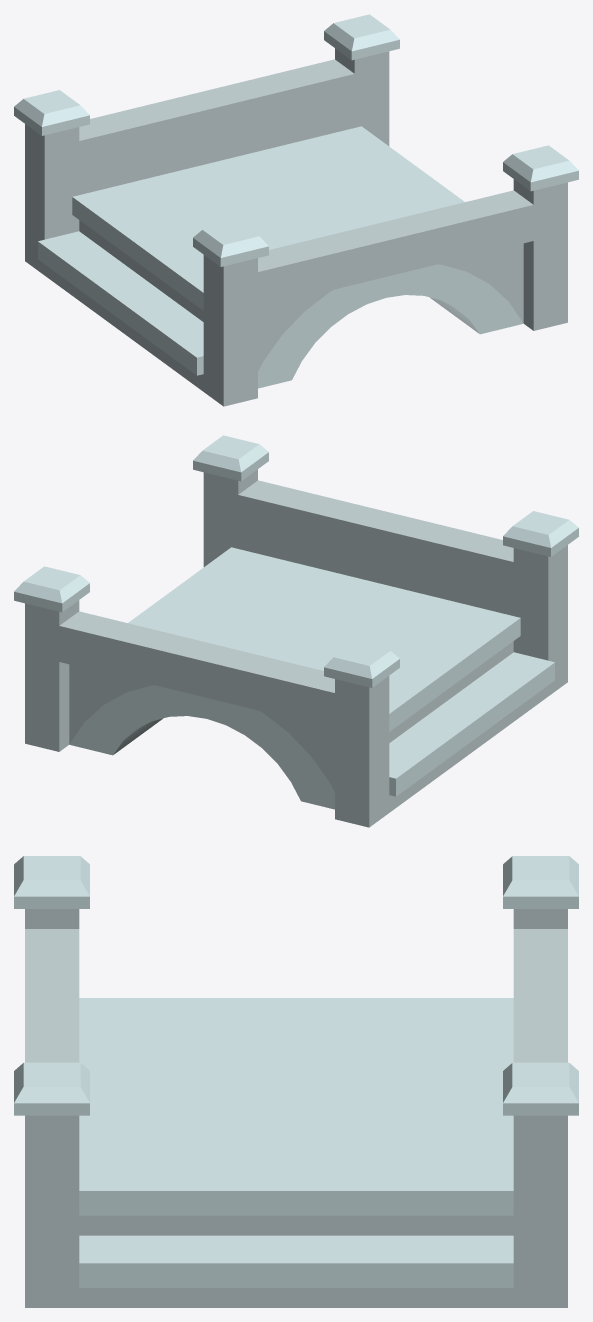
3 views of the same model, one above another, from view 1: azimuth 30°, elevation 25°; view 2: azimuth 150°, elevation 25°; view 3: azimuth 270°, elevation 25° (orthographic). The views are drawn at different scales.
Visible parts, largest first — view 1: bridge_stoneRound; view 2: bridge_stoneRound; view 3: bridge_stoneRound.
Part boxes in pixels (x1=…): bridge_stoneRound: x1=14, y1=14, x2=578, y2=406; bridge_stoneRound: x1=14, y1=435, x2=578, y2=827; bridge_stoneRound: x1=14, y1=856, x2=578, y2=1307.
Size of the model in its own units: 1.04 by 0.45 by 1.04.
